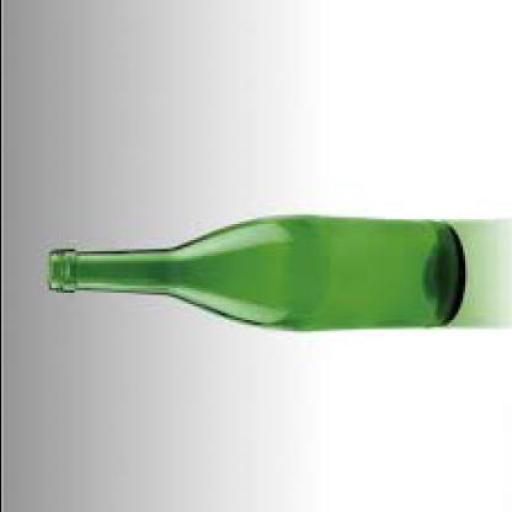glass: (44, 219, 460, 334)
